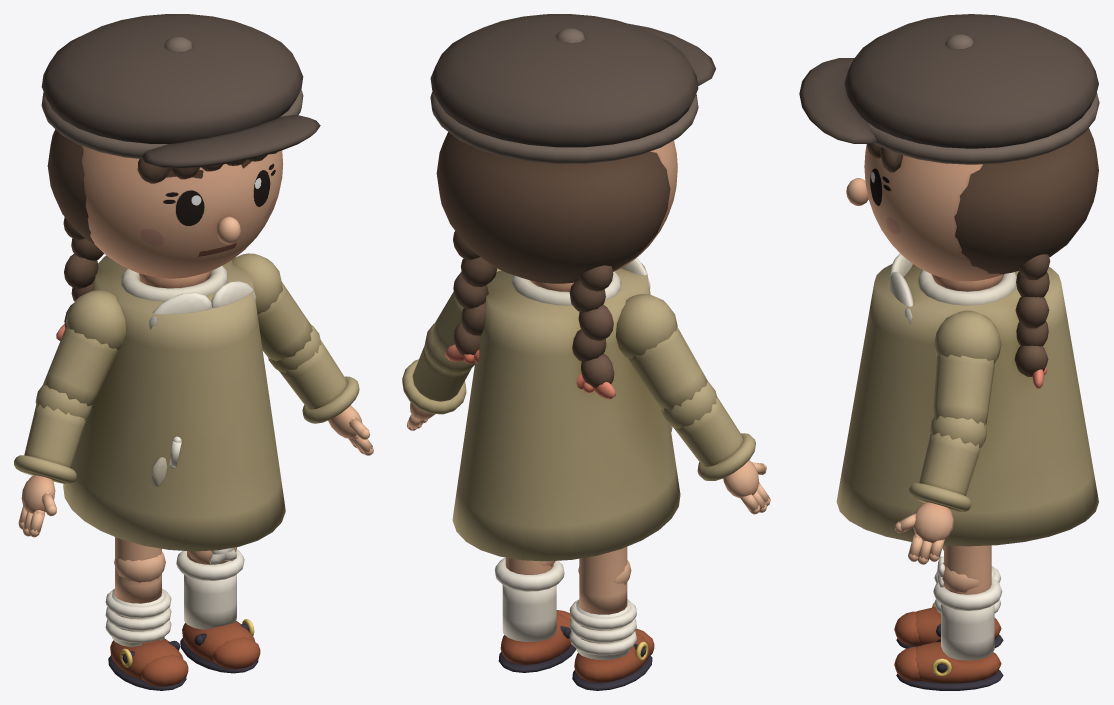
The model's file is clown_v2_static.glb.
The picture shows the model from 3 angles, left to right: view 1: azimuth 30°, elevation 25°; view 2: azimuth 150°, elevation 25°; view 3: azimuth 270°, elevation 25°; orthographic projection. The views are drawn at different scales.
Visible parts, largest first — view 1: body, head; view 2: body, head; view 3: body, head.
Boxes of the visible parts, <box> form: body: <box>14,14,373,690</box>; head: <box>81,146,283,278</box>; body: <box>402,14,770,690</box>; head: <box>613,140,677,271</box>; body: <box>799,14,1099,690</box>; head: <box>864,145,1002,281</box>.
Size of the model in its own units: 0.741 by 1.28 by 0.5528.
Materials: 2 (2 with a texture image).
